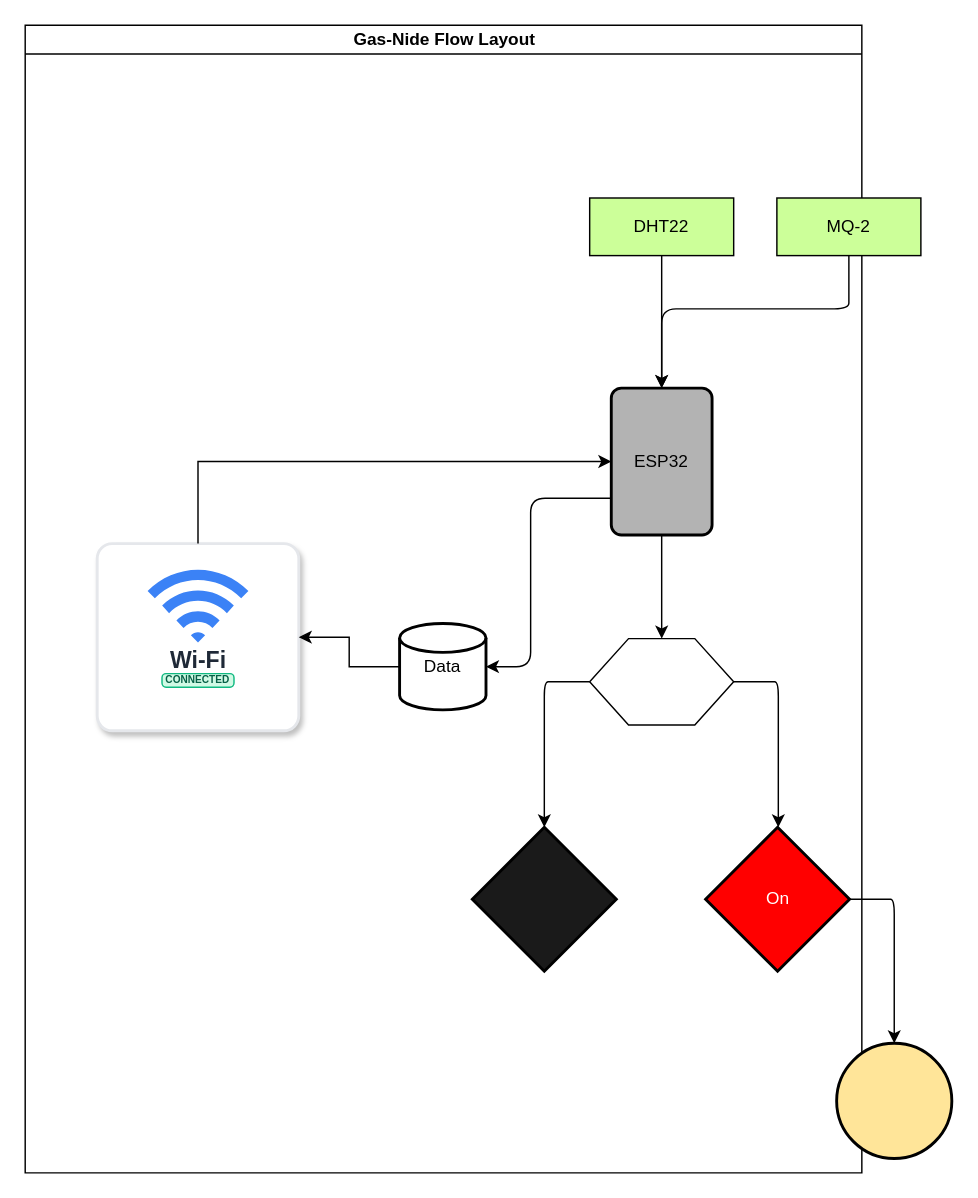
This 978x1198 diagram has some shape labels left out. Here are the shapes that lost their labels. From the top down, the centre of each, then its label:
At (661,681): "Swirch".
At (543,898): "Off".
At (893,1100): "Buzzer".
